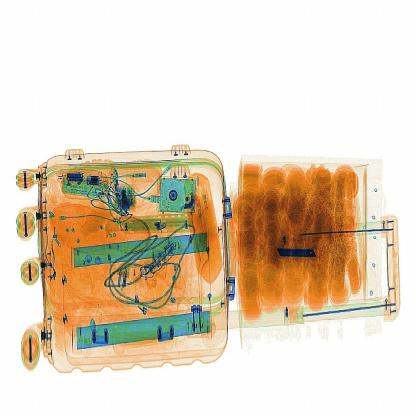pliers: (270, 237, 334, 279)
